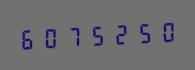five: (86, 20, 108, 49), (132, 18, 154, 46)
seven: (63, 21, 85, 50)
six: (17, 24, 39, 53)
two: (109, 19, 131, 48)
zero: (40, 22, 62, 51), (155, 16, 177, 45)
